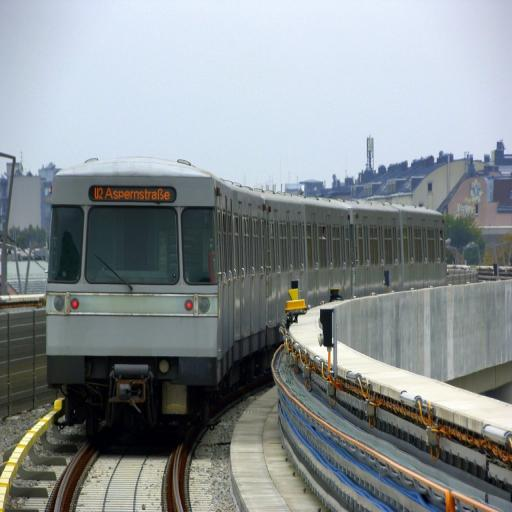Silberpfeil: (48, 156, 446, 382)
